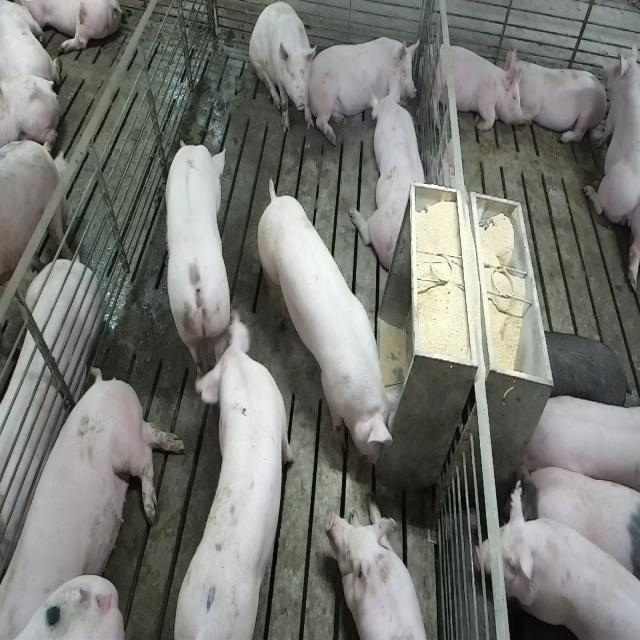Feeding: (261, 167, 407, 472)
Lateral_lying: (5, 363, 187, 636), (0, 260, 102, 578)
Sitting: (250, 3, 318, 138)
Standing: (174, 302, 296, 635), (488, 486, 639, 638), (159, 135, 230, 375), (517, 454, 637, 587), (0, 141, 72, 344), (519, 391, 637, 498)
Sternal_lying: (332, 501, 434, 640), (357, 84, 430, 274), (312, 28, 418, 138), (586, 36, 638, 228), (509, 52, 608, 148), (426, 37, 520, 135)
